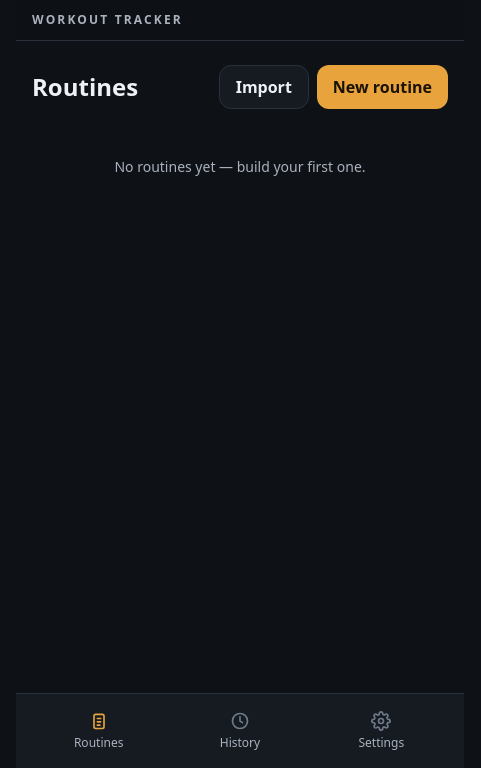
it: App shell › switches to the Settings view via the bottom nav
This screenshot has width=481, height=768.
Click the button "Settings" at (381, 731), box [315,702,448,760]
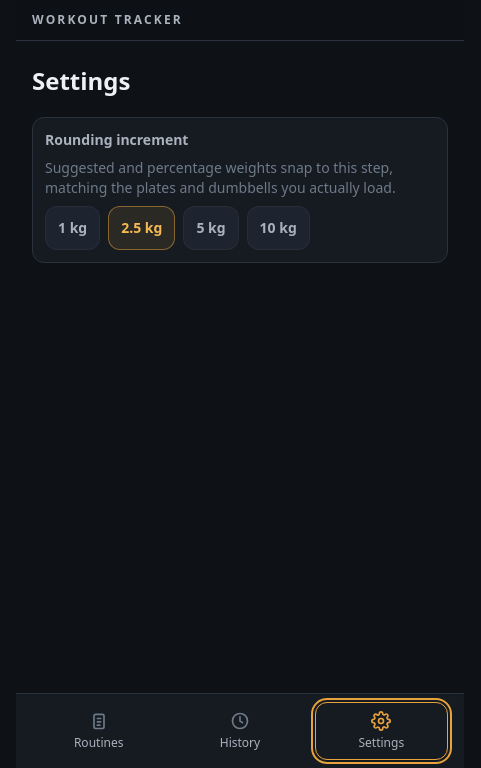
Check: the heading "Settings" is shown, box [32,64,130,97]
